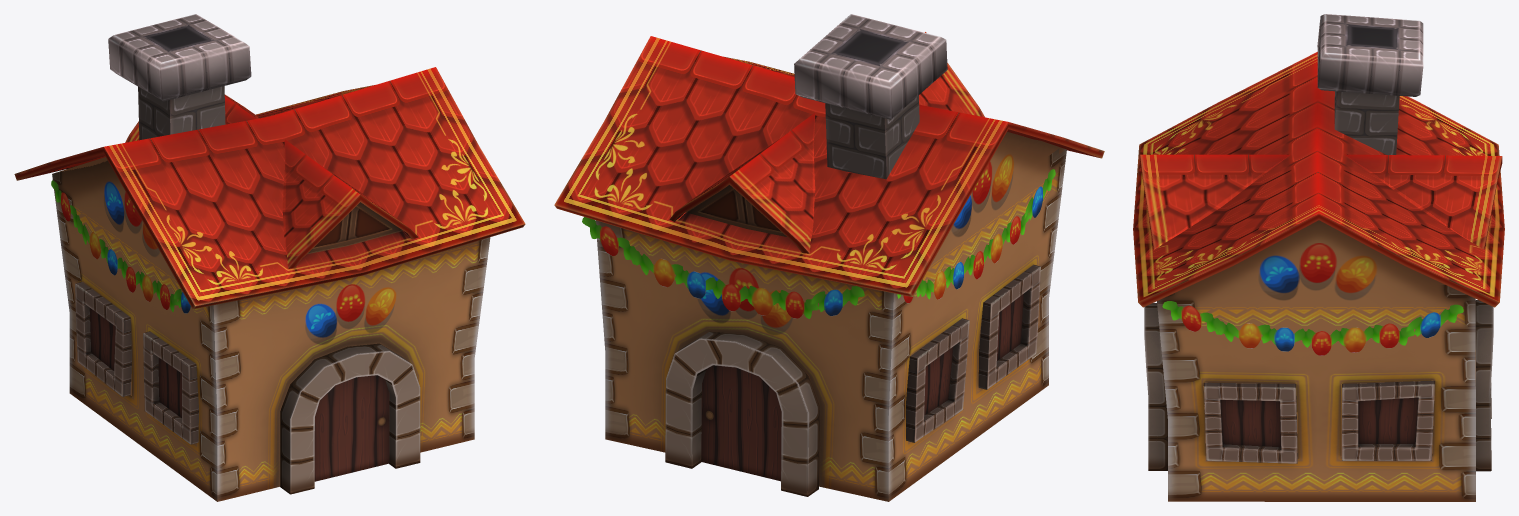
The model's file is House_02_F.FBX.
The picture shows the model from 3 angles, left to right: view 1: azimuth 30°, elevation 25°; view 2: azimuth 150°, elevation 25°; view 3: azimuth 270°, elevation 25°; orthographic projection. The views are drawn at different scales.
Parts seen in each view (by area): view 1: House_02, Egg_Rope_House_02; view 2: House_02, Egg_Rope_House_02; view 3: House_02, Egg_Rope_House_02.
Part boxes in pixels (left/top/right/bottom): House_02: left=14, top=14, right=525, bottom=501; Egg_Rope_House_02: left=51, top=180, right=190, bottom=313; House_02: left=554, top=14, right=1104, bottom=501; Egg_Rope_House_02: left=582, top=169, right=1055, bottom=318; House_02: left=1133, top=14, right=1504, bottom=501; Egg_Rope_House_02: left=1162, top=301, right=1463, bottom=355.
Bounding box in the file's own units: 173 × 188 × 169.
